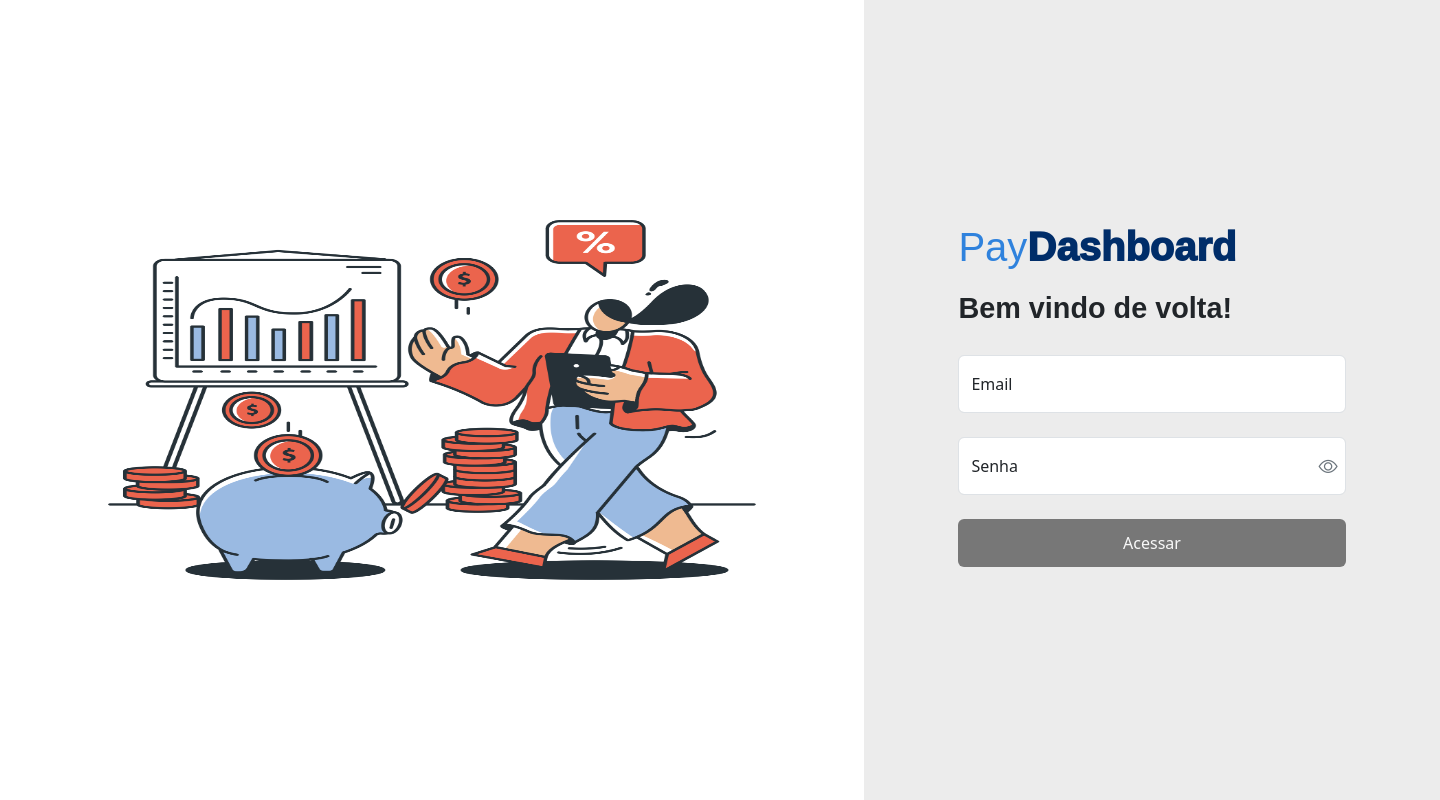
Test: Login Page › should show error message if wrong password
Type "teste@teste.com" into the field named "email" at (1152, 384), box [958,355,1345,413]
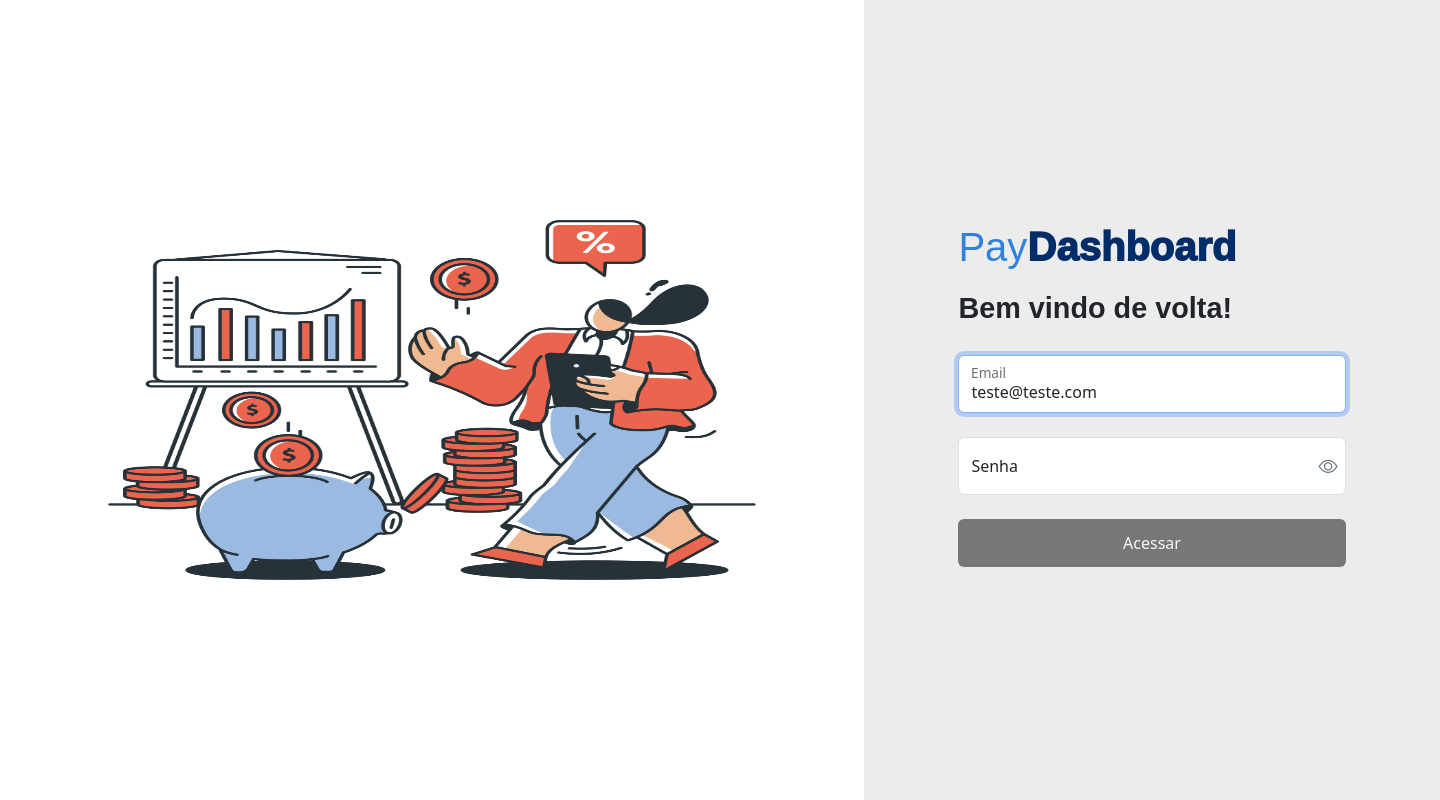
Type "testelogin2" into the password field named "password" at (1152, 466), box [958,437,1345,495]
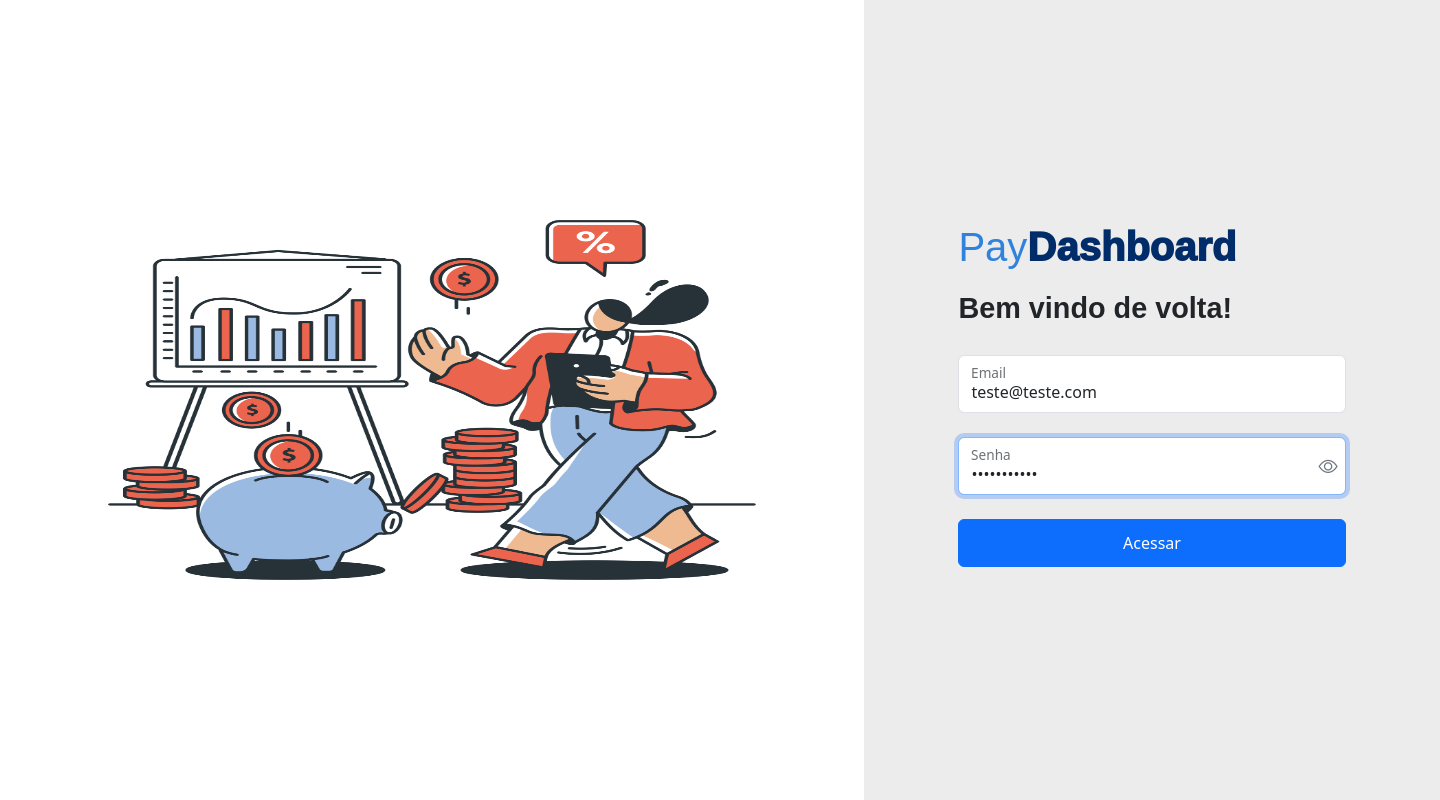
Expected: the submit button is enabled
Click the submit button at (1152, 543), box [958,519,1345,567]
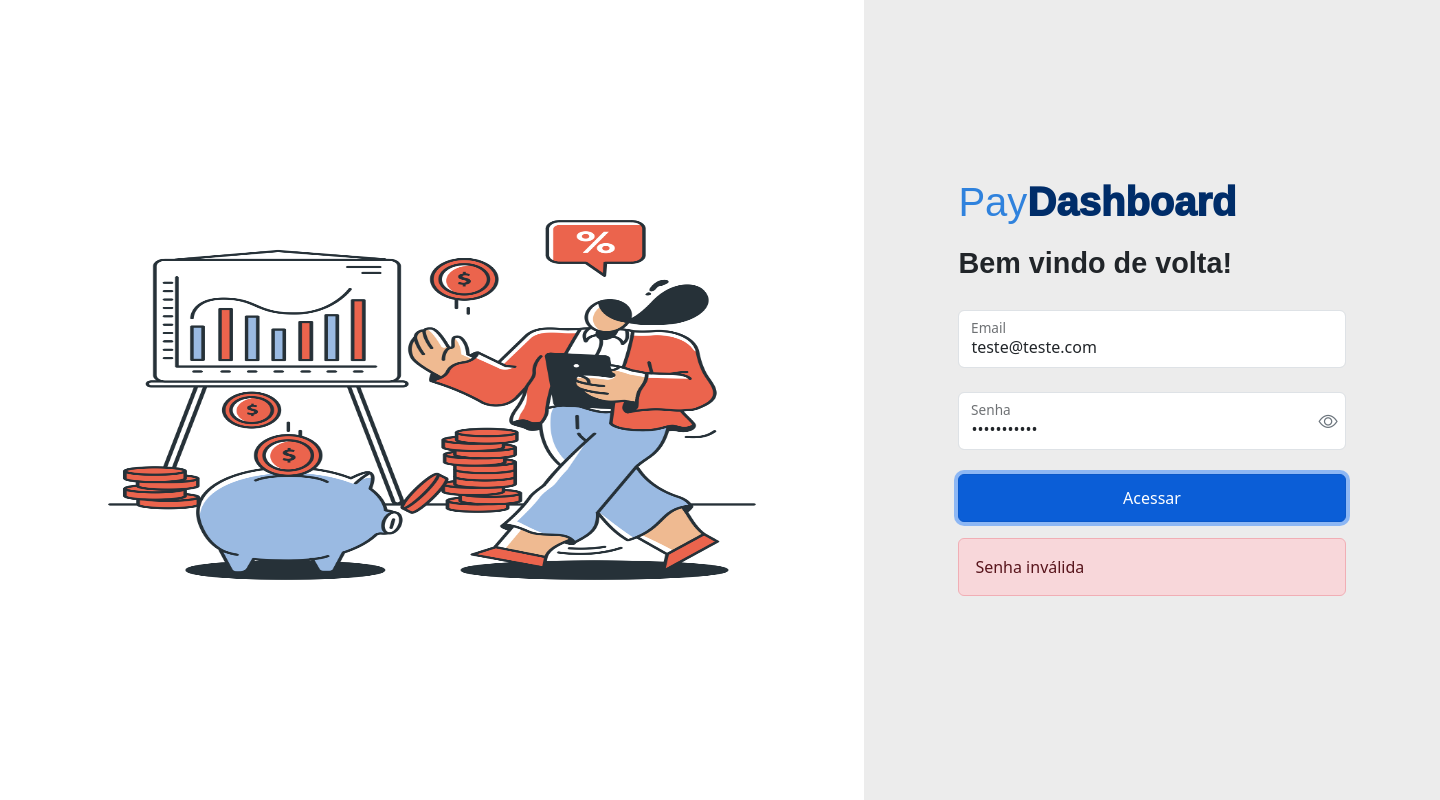
Result: the message "Senha inválida" is shown at [958,538,1346,596]
Result: the message with class "alert-danger" reads "Senha inválida" at [958,538,1345,596]
